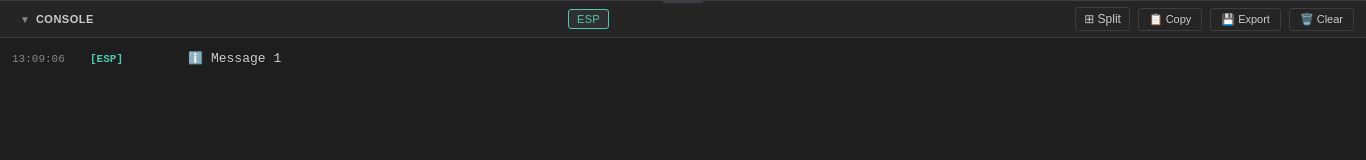
Test: ConsolePanel › clear functionality › should show empty state after clearing
Click the button "🗑️ Clear": (1321, 19) [1289, 8, 1354, 30]
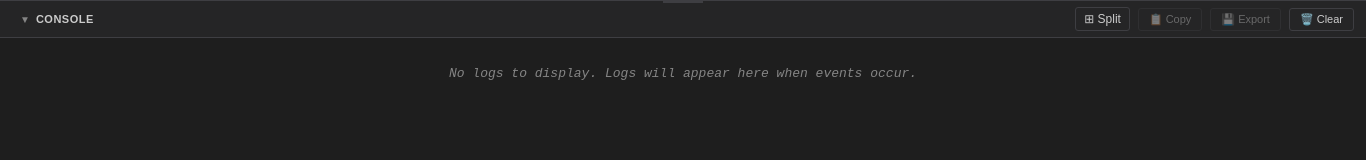
Expected: the text "No logs to display. Logs will appear here when events occur." is shown, [449, 66, 917, 81]
